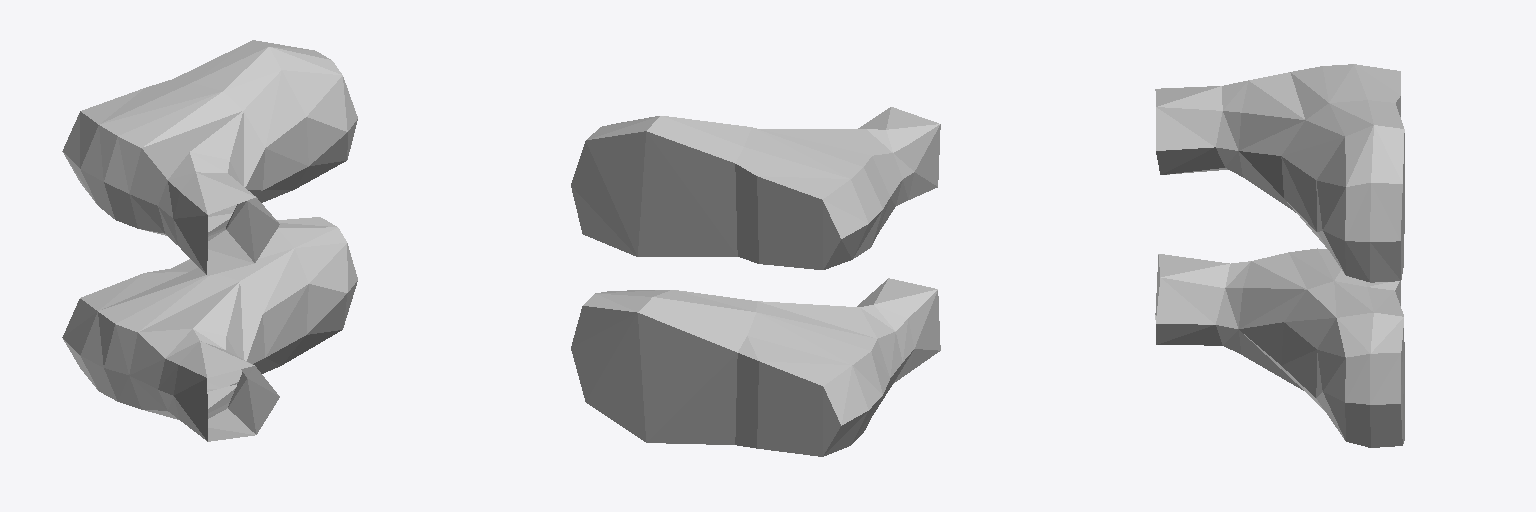
The picture shows the model from 3 angles: view 1: azimuth 30°, elevation 25°; view 2: azimuth 150°, elevation 25°; view 3: azimuth 270°, elevation 25°; orthographic projection.
Parts seen in each view (by area): view 1: vr_foot_001; view 2: vr_foot_001; view 3: vr_foot_001.
Boxes of the visible parts, x1,y1,x2,y2 form: vr_foot_001: [62, 40, 357, 441]; vr_foot_001: [571, 107, 940, 456]; vr_foot_001: [1155, 64, 1404, 447].
Size of the model in its own units: 31.67 by 35.09 by 24.72.